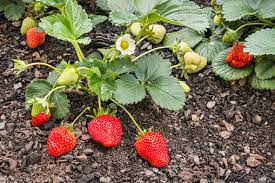ripe: (132, 129, 173, 169), (87, 113, 125, 147), (45, 127, 78, 156), (225, 43, 254, 67), (27, 106, 52, 128), (24, 28, 47, 49)
unripe: (54, 63, 80, 88), (179, 51, 207, 74), (145, 24, 168, 45), (171, 39, 194, 58), (220, 28, 238, 44), (17, 18, 35, 34), (128, 21, 144, 38), (31, 96, 43, 117), (176, 79, 191, 93)
